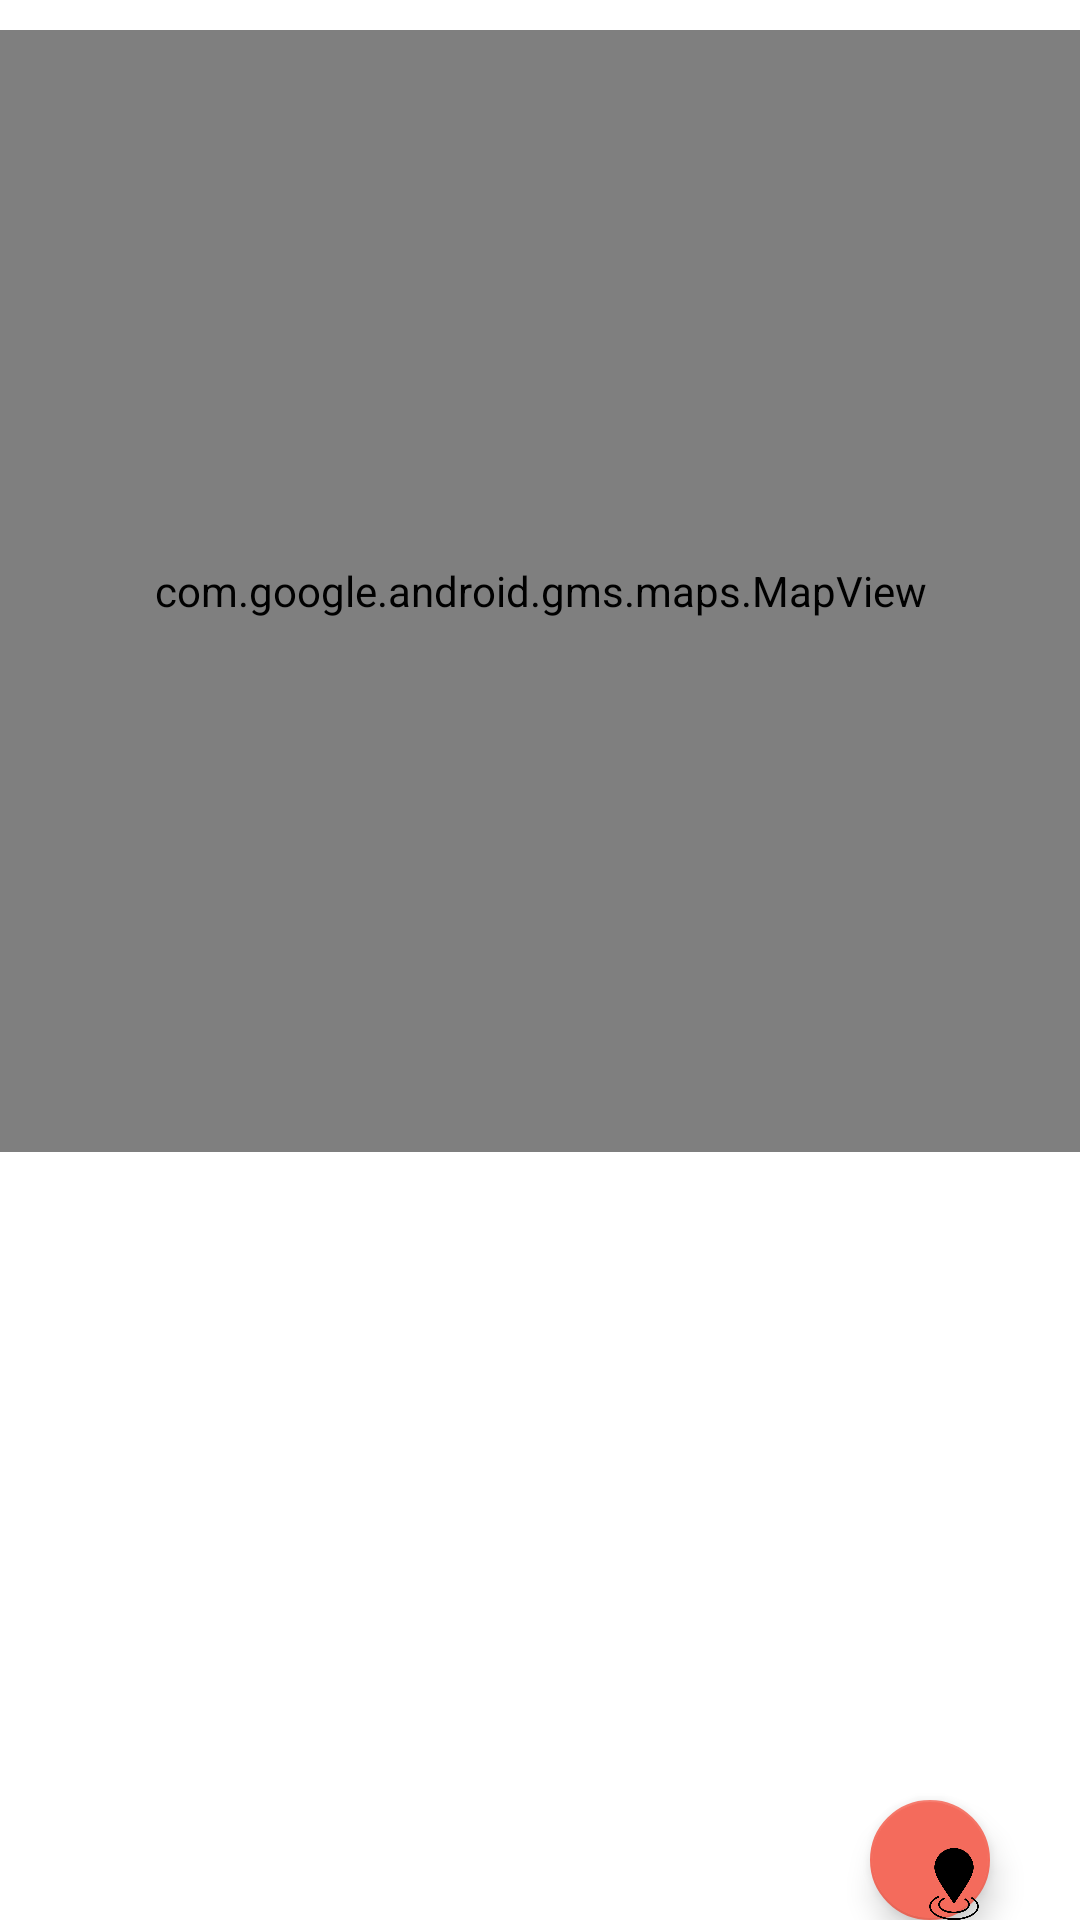

Icon click points for this 1080×1920 phone screenshot, format (x,y):
place: (930,1860)
